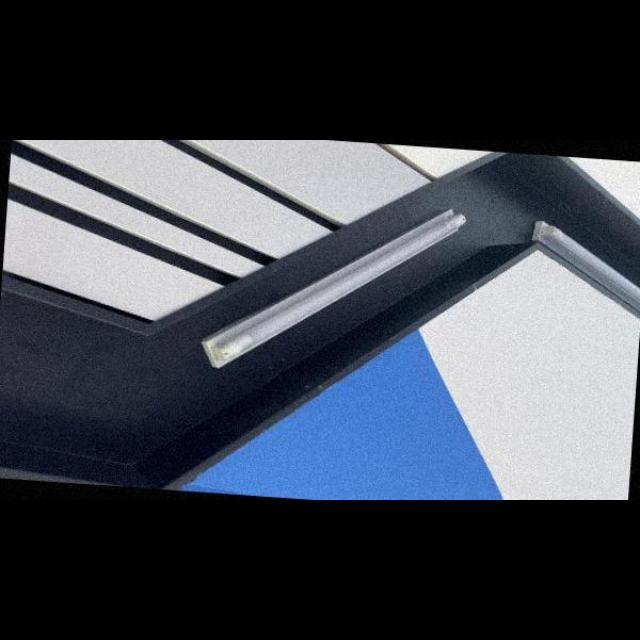Straight-Tube-Fluorescent-Lamp: (190, 175, 474, 395), (514, 194, 640, 366)
